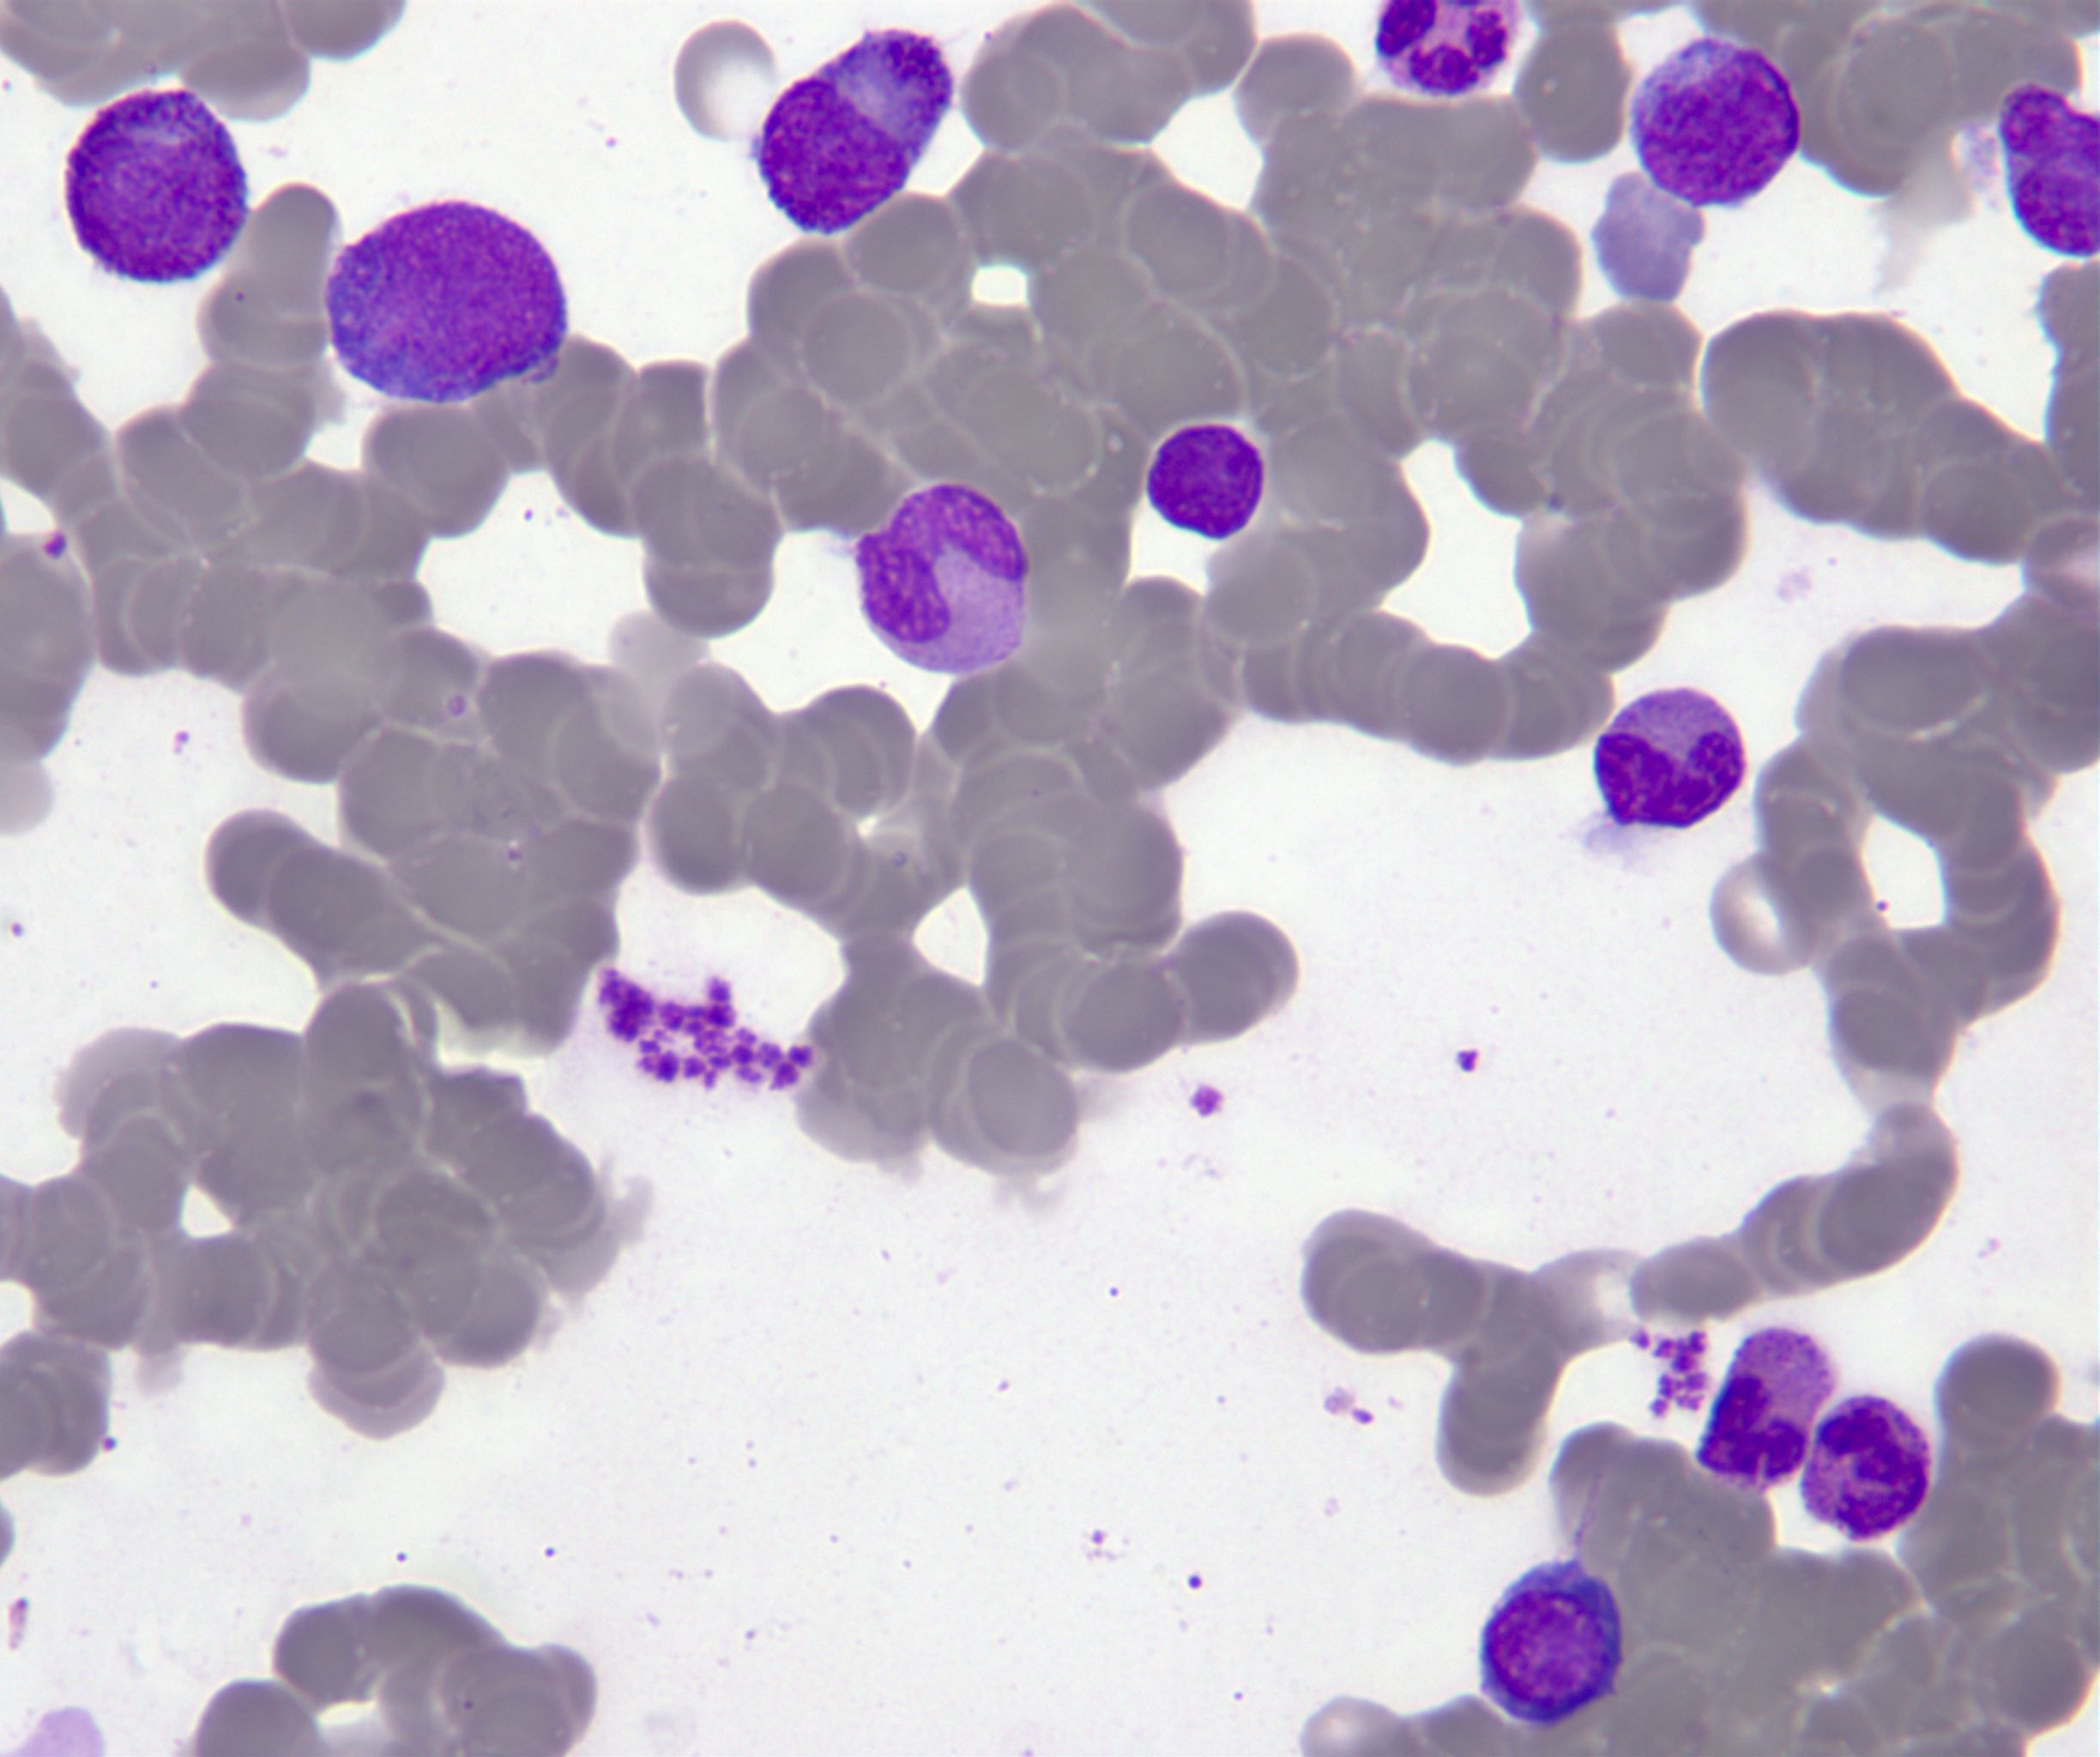2: (319, 194, 577, 414)
23: (1470, 1551, 1627, 1731)
3: (748, 26, 956, 241), (58, 87, 258, 290)
4: (1620, 30, 1805, 215), (1591, 680, 1751, 834)
5: (848, 478, 1038, 686), (1692, 1321, 1838, 1501), (1793, 1392, 1936, 1548)
6: (1369, 0, 1530, 105)
x: (1139, 419, 1270, 548)
